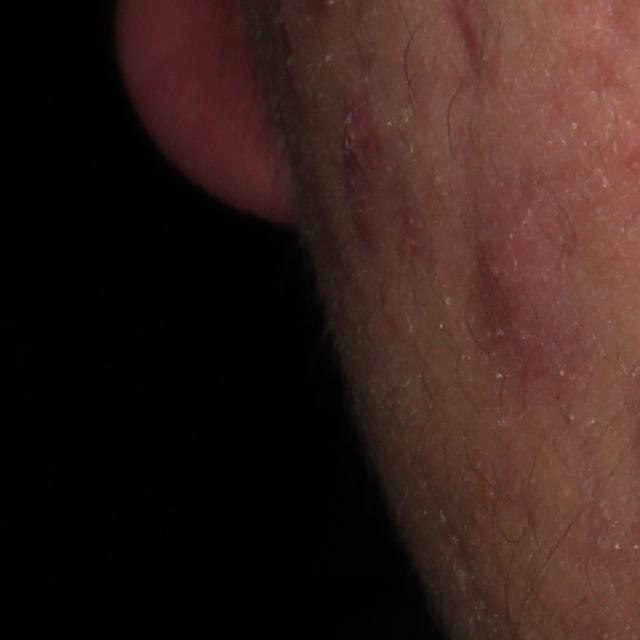nodule: (478, 184, 581, 386)
